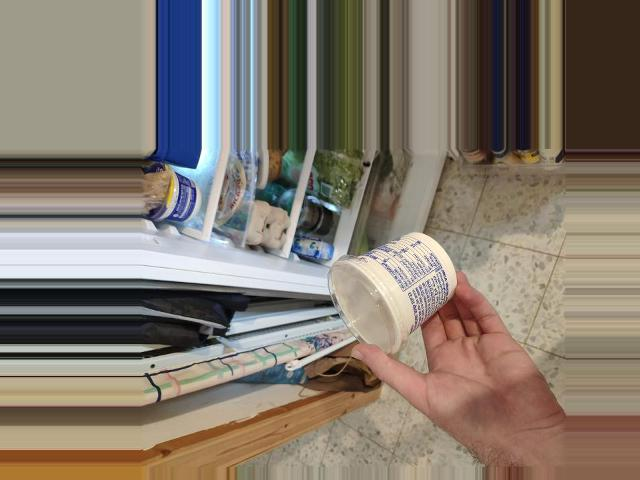cotage: (327, 236, 443, 345)
